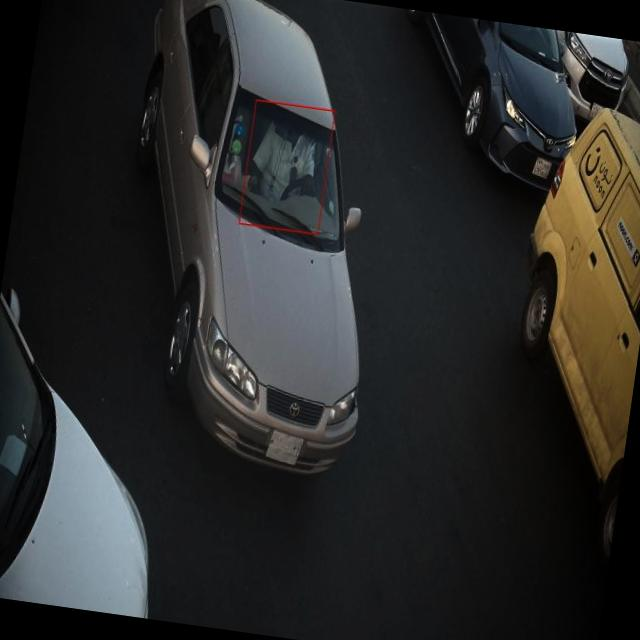person_without_seatbelt: (250, 108, 332, 215)
